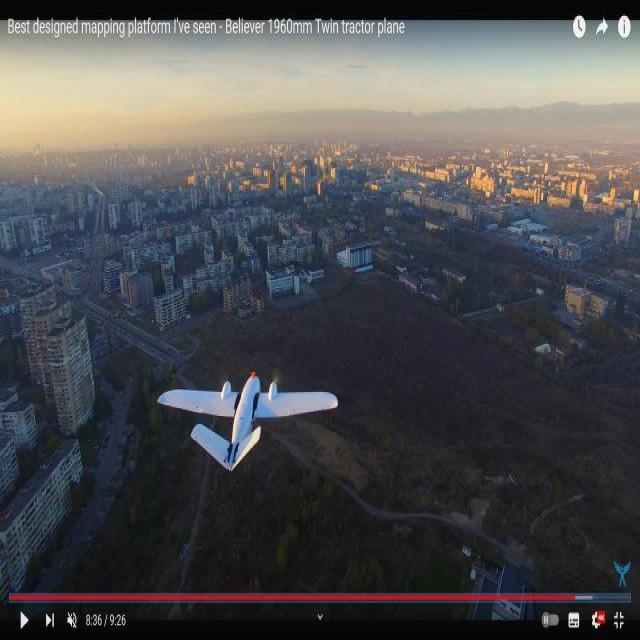iha: (158, 404, 340, 439)
